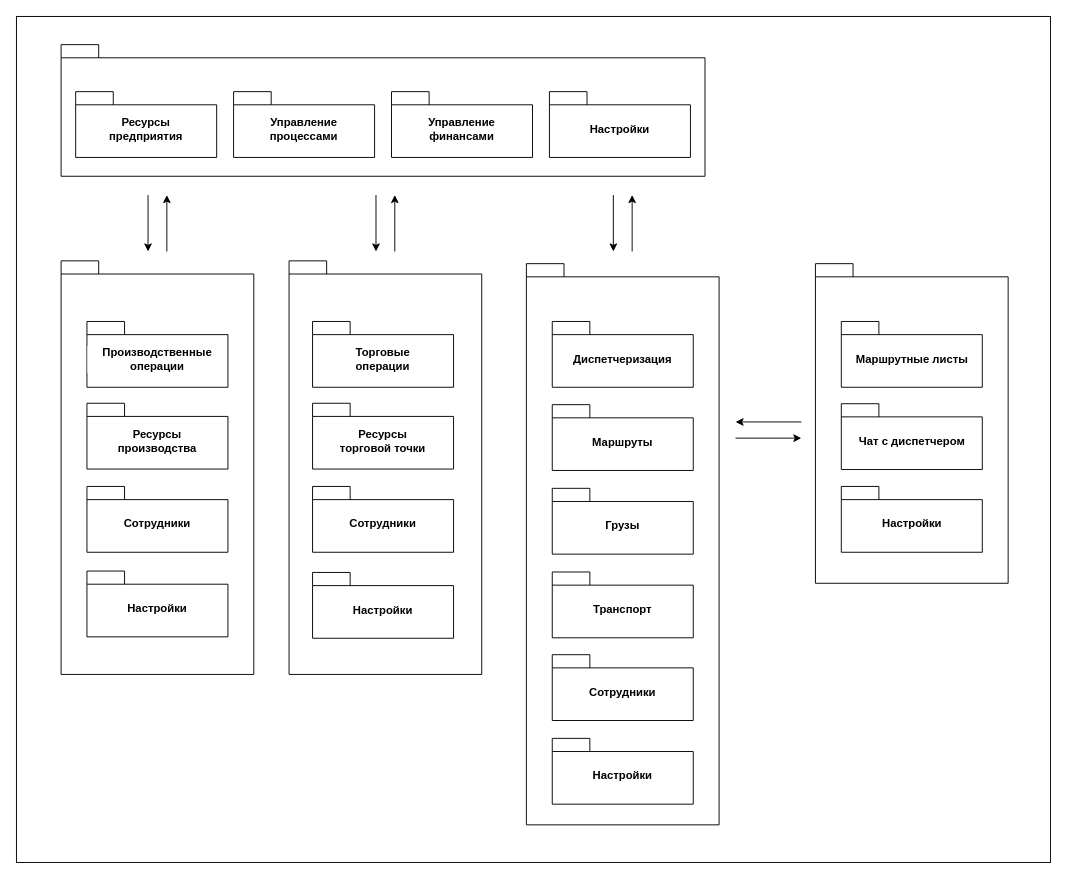
The diagram is 1067 pixels wide and 879 high, and some of its shapes have lost their labels. Each missing label, with the box of its shape:
Конфигурация: Доставка: (525, 263, 719, 825)
Конфигурация: Доставщик: (815, 263, 1008, 583)
Конфигурация: Предприятие: (60, 44, 705, 176)
Конфигурация: Производство: (60, 260, 254, 674)
Конфигурация: Торговая точка: (288, 260, 482, 674)
